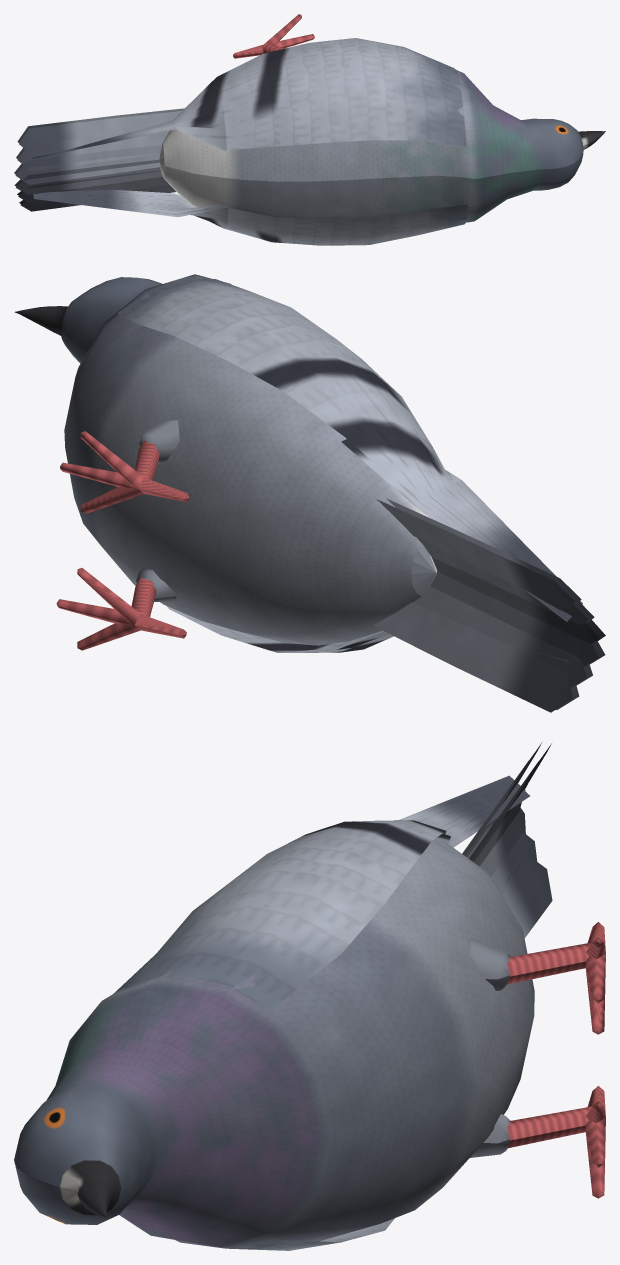
Rendered from bird_pigeon.obj.
3 renders of one model, top to bottom at view 1: azimuth 30°, elevation 25°; view 2: azimuth 150°, elevation 25°; view 3: azimuth 270°, elevation 25°, orthographic. The views are drawn at different scales.
Visible parts, largest first — view 1: bird_pigeon; view 2: bird_pigeon; view 3: bird_pigeon.
Boxes of the visible parts, x1,y1,x2,y2 form: bird_pigeon: (14, 14, 605, 245); bird_pigeon: (14, 274, 605, 712); bird_pigeon: (14, 743, 605, 1250).
Size of the model in its own units: 0.314 by 0.1181 by 0.1784.
Materials: 1 (1 with a texture image).
